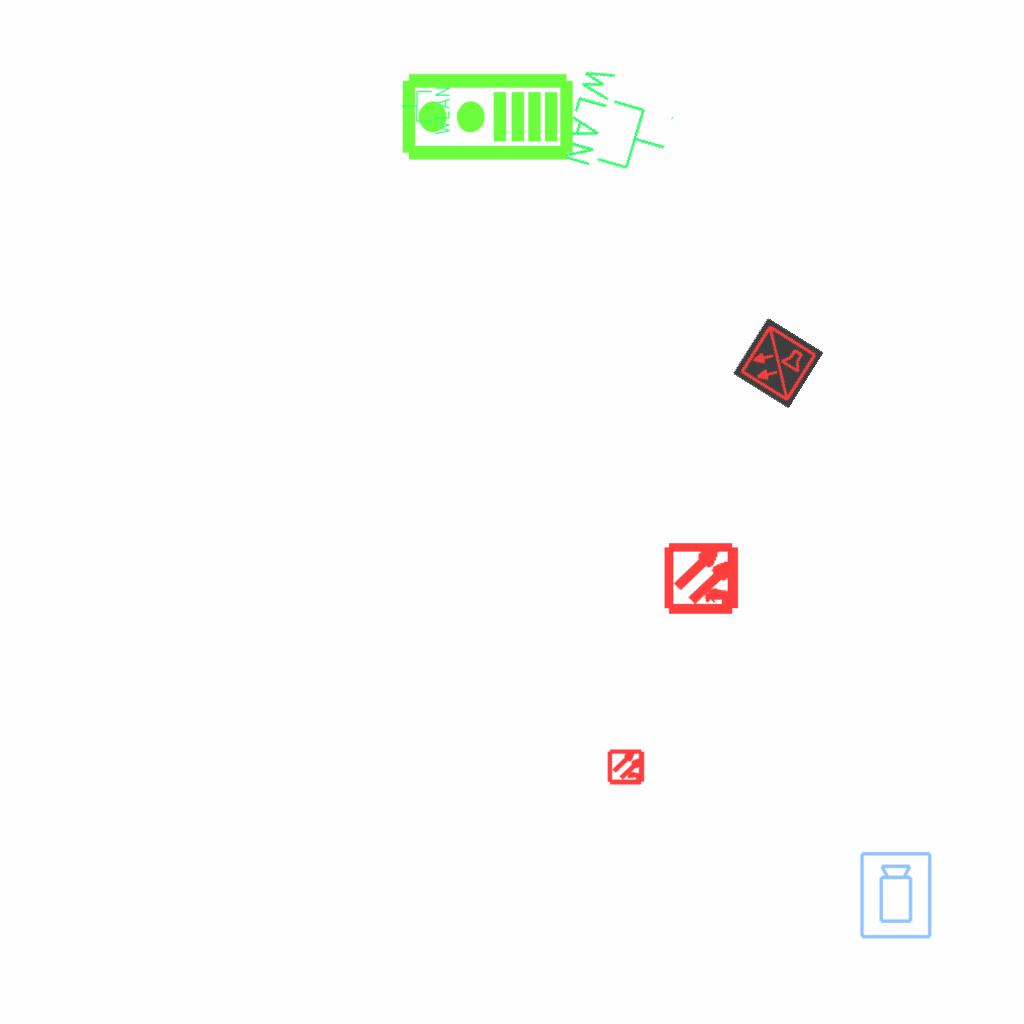Gegensprechanlage_mit_Video: (399, 71, 575, 166)
KFO_Kamera_mit_Festobjektiv: (858, 850, 935, 941)
OKW_Multisensormelder_(Kombination_optischer_Rauch-Kahlenmonoxid_Waerme-Melder): (732, 317, 824, 409)
OT_Multisensormelder_(Kombination_RMO_WMD): (647, 522, 760, 635), (599, 739, 655, 795)
WLAN: (555, 59, 685, 190), (400, 85, 452, 137)
